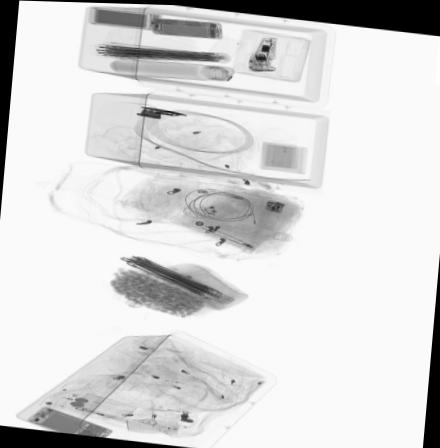Lighter: (74, 404, 129, 422)
